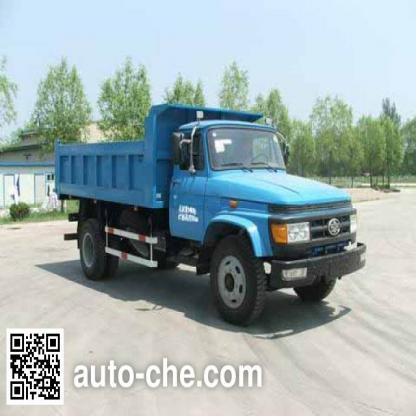normal-truck: (70, 86, 364, 309)
